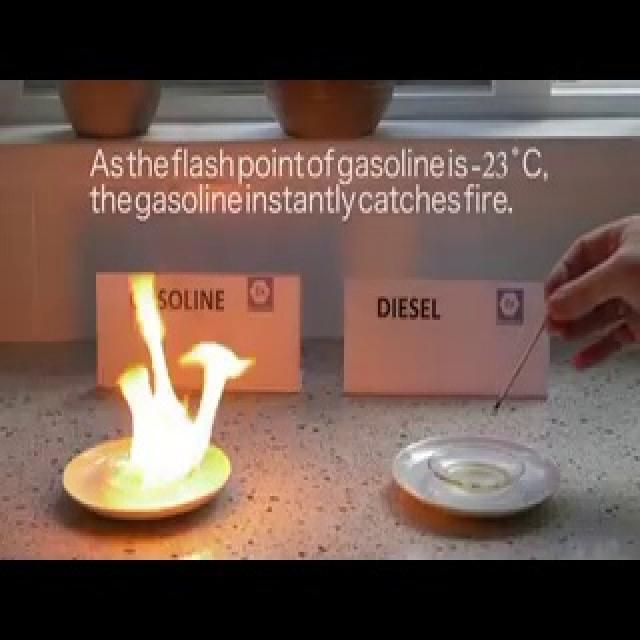fire: (123, 280, 233, 483)
